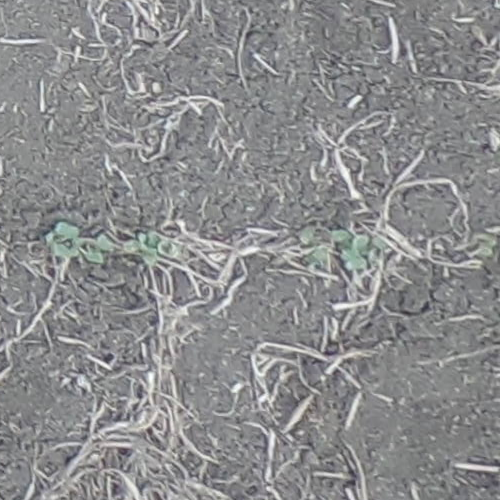isolated: (299, 227, 349, 275), (44, 220, 84, 259), (123, 227, 168, 261), (350, 231, 385, 271), (89, 233, 110, 269)
